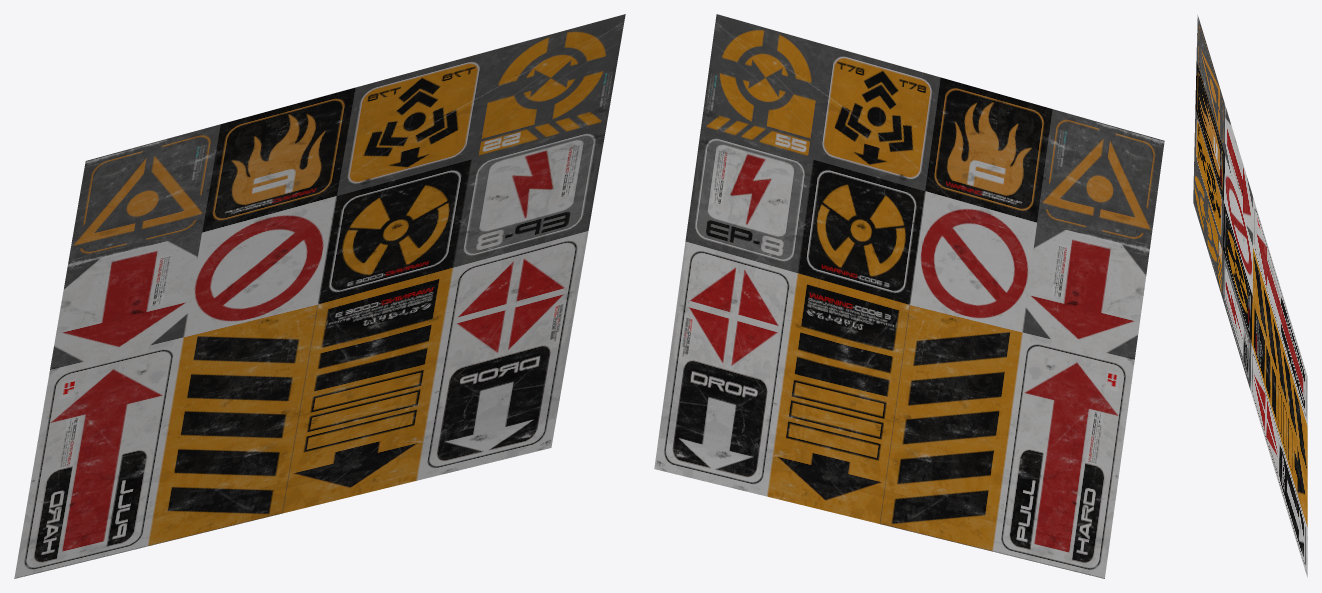
File: Shuttle_Interior_Bay_Wall_Decal1.FBX
3 renders of one model, left to right at view 1: azimuth 30°, elevation 25°; view 2: azimuth 150°, elevation 25°; view 3: azimuth 270°, elevation 25°, orthographic. The views are drawn at different scales.
Parts seen in each view (by area): view 1: Shuttle_Interior_Bay_Wall_Decal1; view 2: Shuttle_Interior_Bay_Wall_Decal1; view 3: Shuttle_Interior_Bay_Wall_Decal1.
Boxes of the visible parts, box(x1,y1,x2,y2) form: Shuttle_Interior_Bay_Wall_Decal1: box(14, 14, 625, 578); Shuttle_Interior_Bay_Wall_Decal1: box(654, 14, 1164, 578); Shuttle_Interior_Bay_Wall_Decal1: box(1193, 15, 1307, 577).
Bounding box in the file's own units: 0.2031 × 0.1764 × 0.0486.
